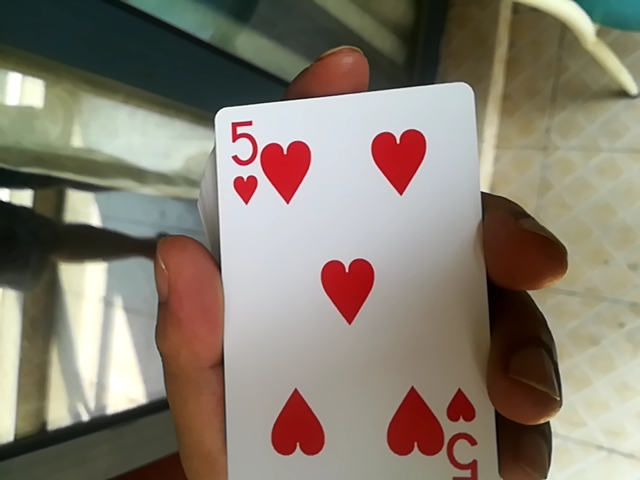hx 5: (196, 76, 480, 474)
